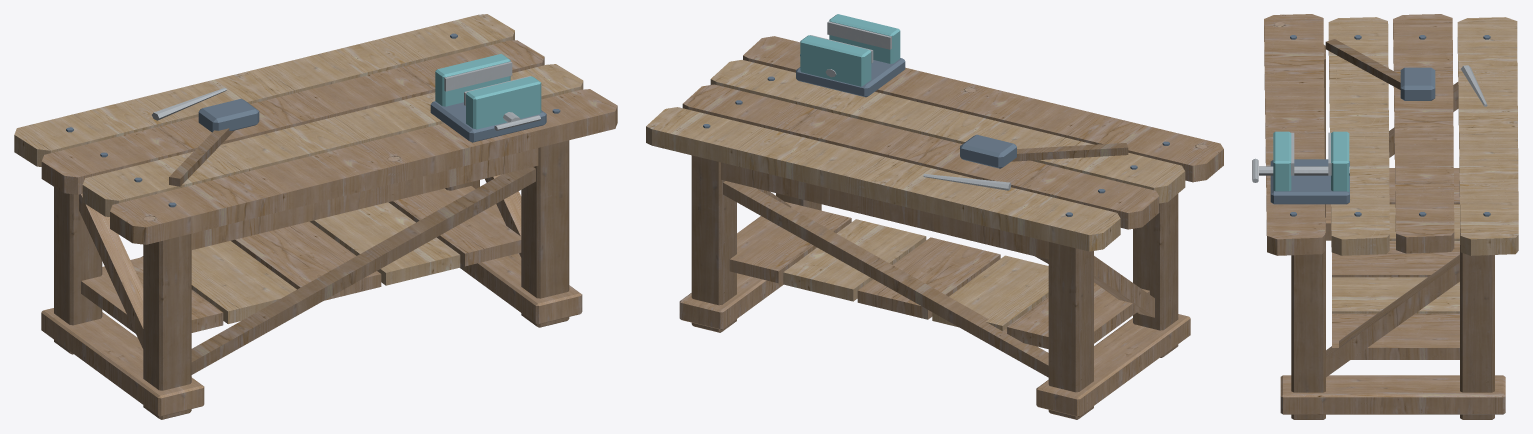
File: build_workbench.glb
3 renders of one model, left to right at view 1: azimuth 30°, elevation 25°; view 2: azimuth 150°, elevation 25°; view 3: azimuth 270°, elevation 25°, orthographic. The views are drawn at different scales.
Visible parts, largest first — view 1: build_workbench; view 2: build_workbench; view 3: build_workbench.
Boxes of the visible parts, x1=… form: build_workbench: x1=14, y1=14, x2=617, y2=419; build_workbench: x1=646, y1=14, x2=1223, y2=419; build_workbench: x1=1252, y1=14, x2=1518, y2=419.
Bounding box in the file's own units: 2 × 1 × 1.
6 materials, 4 textured.
